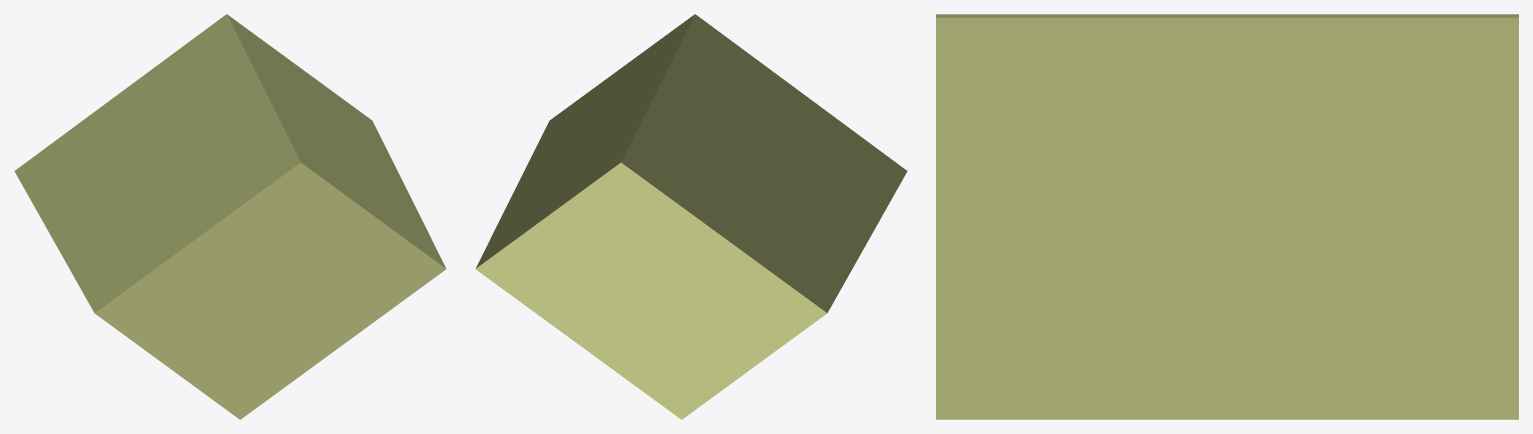
3 renders of one model, left to right at view 1: azimuth 30°, elevation 25°; view 2: azimuth 150°, elevation 25°; view 3: azimuth 270°, elevation 25°, orthographic. The views are drawn at different scales.
Parts seen in each view (by area): view 1: 0_1_1_3_2_2_3_0_1_0_1; view 2: 0_1_1_3_2_2_3_0_1_0_1; view 3: 0_1_1_3_2_2_3_0_1_0_1.
Boxes of the visible parts, x1,y1,x2,y2 form: 0_1_1_3_2_2_3_0_1_0_1: (14,14,446,419); 0_1_1_3_2_2_3_0_1_0_1: (475,14,907,419); 0_1_1_3_2_2_3_0_1_0_1: (936,14,1518,419).
Size of the model in its own units: 6.81 by 6.07 by 6.
